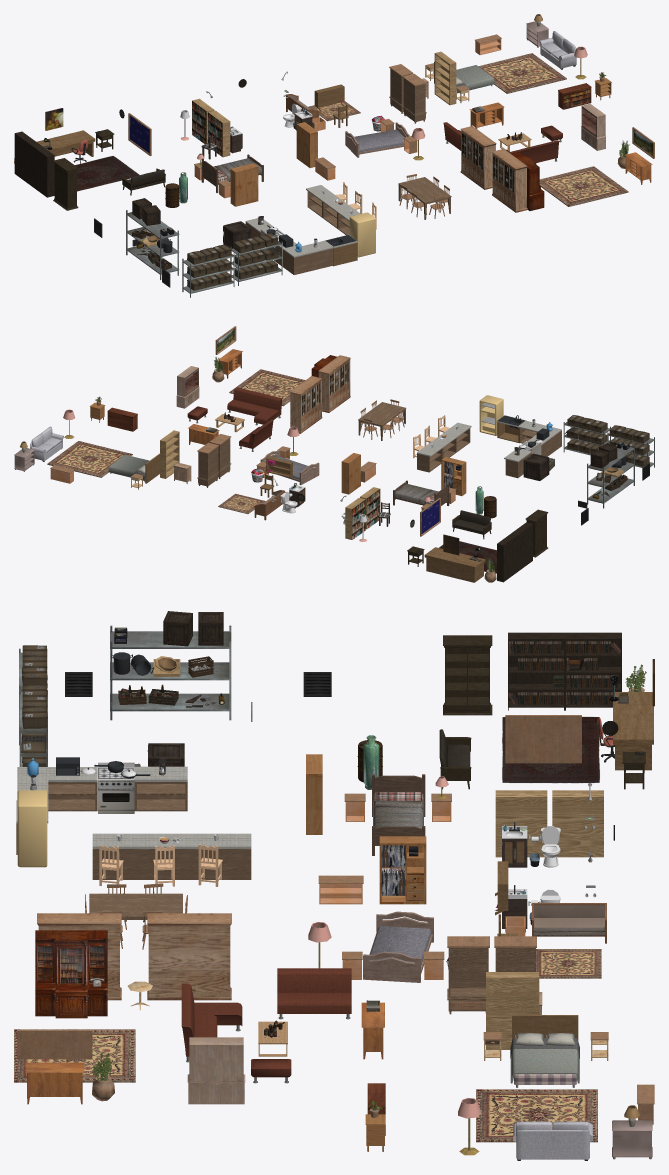
Rendered from furniture.glb.
3 renders of one model, top to bottom at view 1: azimuth 30°, elevation 25°; view 2: azimuth 150°, elevation 25°; view 3: azimuth 270°, elevation 25°, orthographic. The views are drawn at different scales.
Parts seen in each view (by area): view 1: Plane.001, Plane.002, Fitment.001-col, Fitment-col, Cube.081-col, carpet_mp_1.001, C.029-col, Bed.002-col, Wardrobe_01.001-col, shelf_mp_5_2.001, display_cabinet_mp_2_4.001, Librero.005-col (+30 smaller); view 2: Plane.002, Fitment-col, Desk, Fitment.001-col, Plane.001, C.029-col, Bed_09.001-col, shelf_mp_5_2.002, bed.001-col, Cube.081-col, Armchair_13.001-col, Wardrobe_01.001-col (+31 smaller); view 3: Fitment-col, Bookcase_01-col, Plane.002, C.029-col, Bed_09.001-col, Bed.002-col, Fitment_02.002-col, Paintings_03.001, display_cabinet_mp_2_4.001, Armchair_13.002-col, bed.001-col, Wardrobe_01-col (+36 smaller).
Boxes of the visible parts, bbox=[...] form: Plane.001: bbox=[539, 166, 628, 206]; Plane.002: bbox=[478, 53, 566, 93]; Fitment.001-col: bbox=[492, 149, 527, 212]; Fitment-col: bbox=[460, 126, 496, 189]; Cube.081-col: bbox=[273, 241, 332, 274]; carpet_mp_1.001: bbox=[75, 156, 139, 191]; C.029-col: bbox=[126, 210, 179, 279]; Bed.002-col: bbox=[345, 122, 409, 157]; Wardrobe_01.001-col: bbox=[230, 163, 258, 206]; shelf_mp_5_2.001: bbox=[31, 143, 54, 197]; display_cabinet_mp_2_4.001: bbox=[53, 158, 78, 210]; Librero.005-col: bbox=[434, 51, 456, 105]; Plane.002: bbox=[47, 441, 132, 477]; Fitment-col: bbox=[290, 376, 322, 433]; Desk: bbox=[424, 547, 485, 582]; Fitment.001-col: bbox=[318, 355, 350, 412]; Plane.001: bbox=[229, 369, 305, 406]; C.029-col: bbox=[587, 441, 634, 508]; Bed_09.001-col: bbox=[108, 453, 159, 483]; shelf_mp_5_2.002: bbox=[497, 533, 518, 582]; bed.001-col: bbox=[393, 480, 449, 505]; Cube.081-col: bbox=[518, 421, 561, 456]; Armchair_13.001-col: bbox=[227, 387, 269, 416]; Wardrobe_01.001-col: bbox=[441, 457, 466, 495]; Fitment-col: bbox=[147, 913, 231, 1000]; Bookcase_01-col: bbox=[35, 930, 107, 1018]; Plane.002: bbox=[476, 1089, 597, 1142]; C.029-col: bbox=[110, 625, 231, 720]; Bed_09.001-col: bbox=[510, 1015, 579, 1087]; Bed.002-col: bbox=[363, 911, 433, 982]; Fitment_02.002-col: bbox=[187, 1037, 245, 1104]; Paintings_03.001: bbox=[505, 715, 581, 763]; display_cabinet_mp_2_4.001: bbox=[443, 635, 492, 715]; Armchair_13.002-col: bbox=[277, 968, 351, 1019]; bed.001-col: bbox=[372, 774, 425, 855]; Wardrobe_01-col: bbox=[379, 836, 426, 904].
Size of what is drawn, in the model's own units: 32.1 by 3.26 by 18.91.
Materials: 141 (133 with a texture image).
